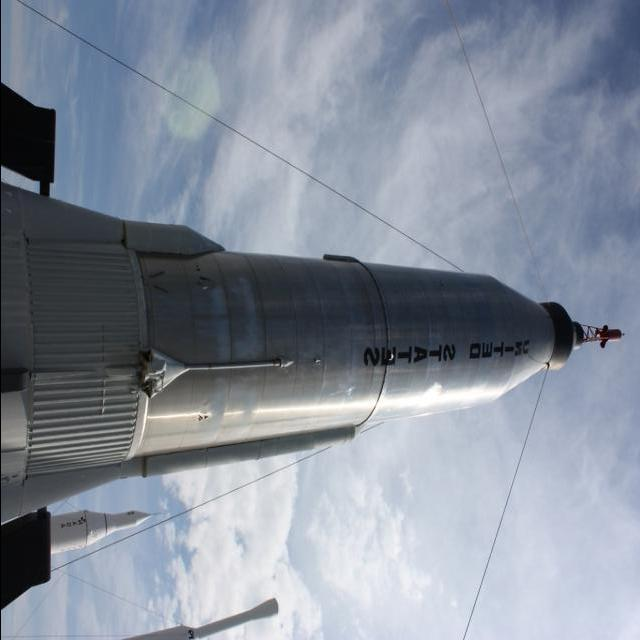missile: (0, 223, 627, 466)
